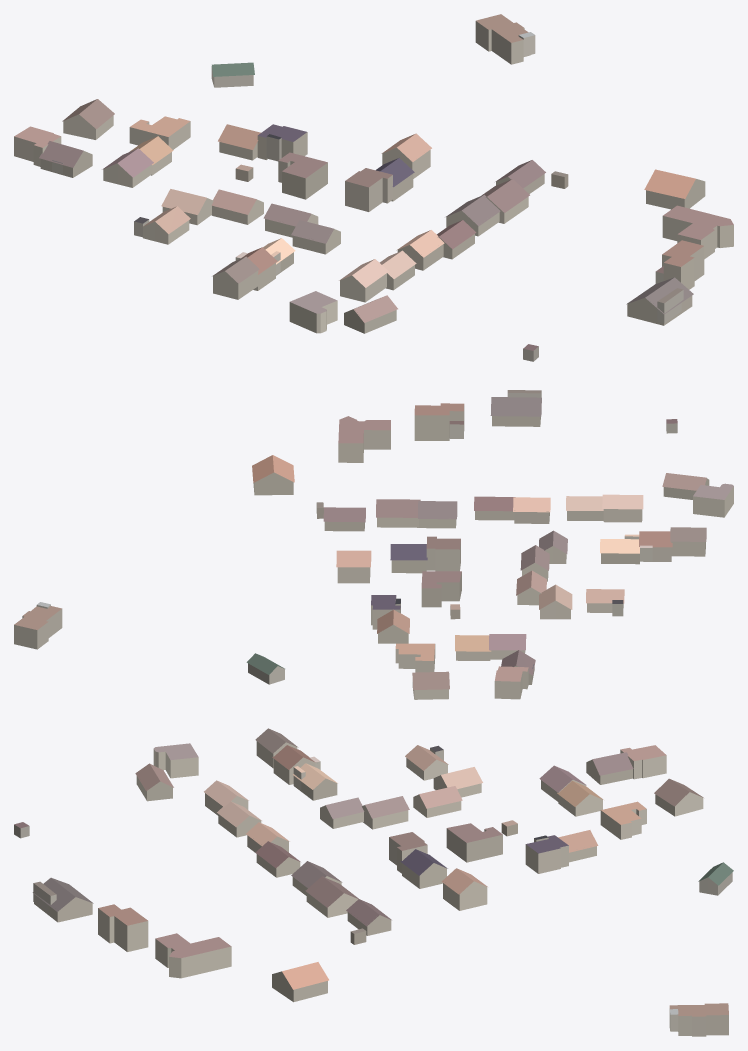
3 views of the same model, one above another, from view 1: azimuth 30°, elevation 25°; view 2: azimuth 150°, elevation 25°; view 3: azimuth 270°, elevation 25° (orthographic). The views are drawn at different scales.
Parts seen in each view (by area): view 1: tuile; view 2: tuile; view 3: tuile.
Part boxes in pixels (x1,y1,x2,y2): tuile: [14, 14, 733, 361]; tuile: [14, 390, 733, 699]; tuile: [14, 728, 733, 1036].
Size of the model in its own units: 176 by 23.82 by 222.
